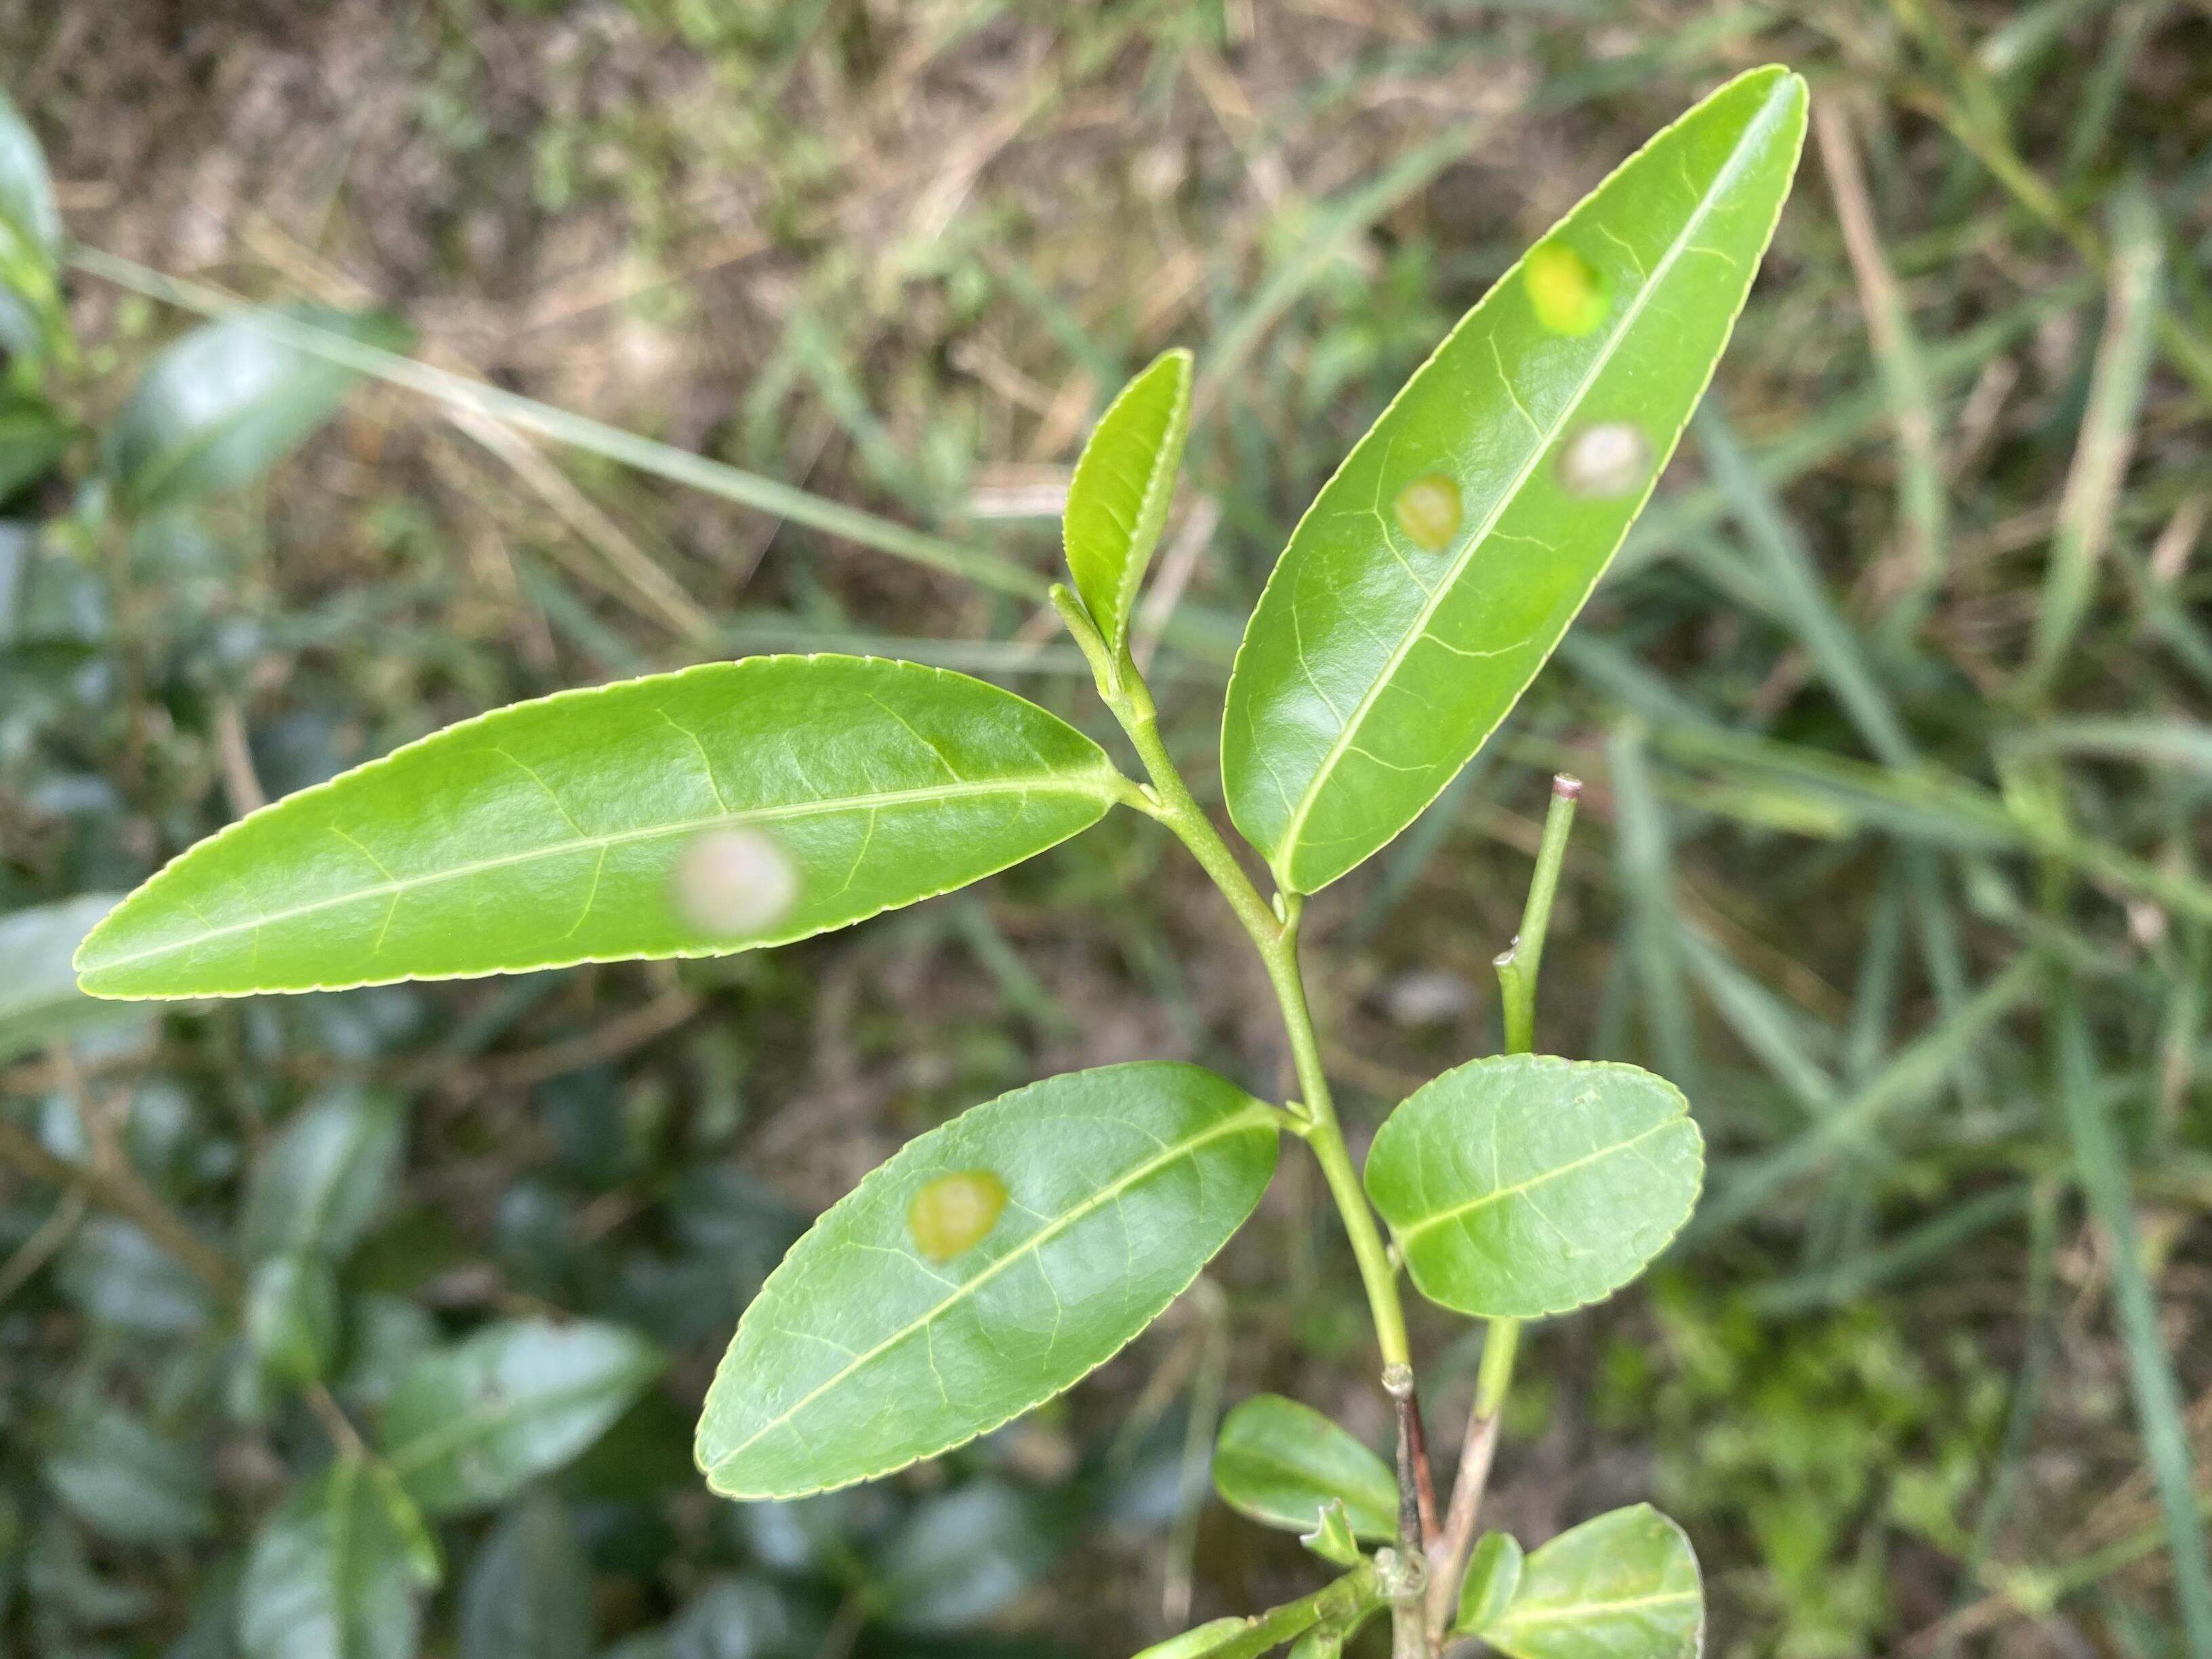chabing_high: (1219, 59, 1810, 897)
chabing_low: (71, 652, 1125, 1000), (691, 1056, 1284, 1504)
healthy: (1362, 1049, 1710, 1323), (1061, 349, 1197, 676)
